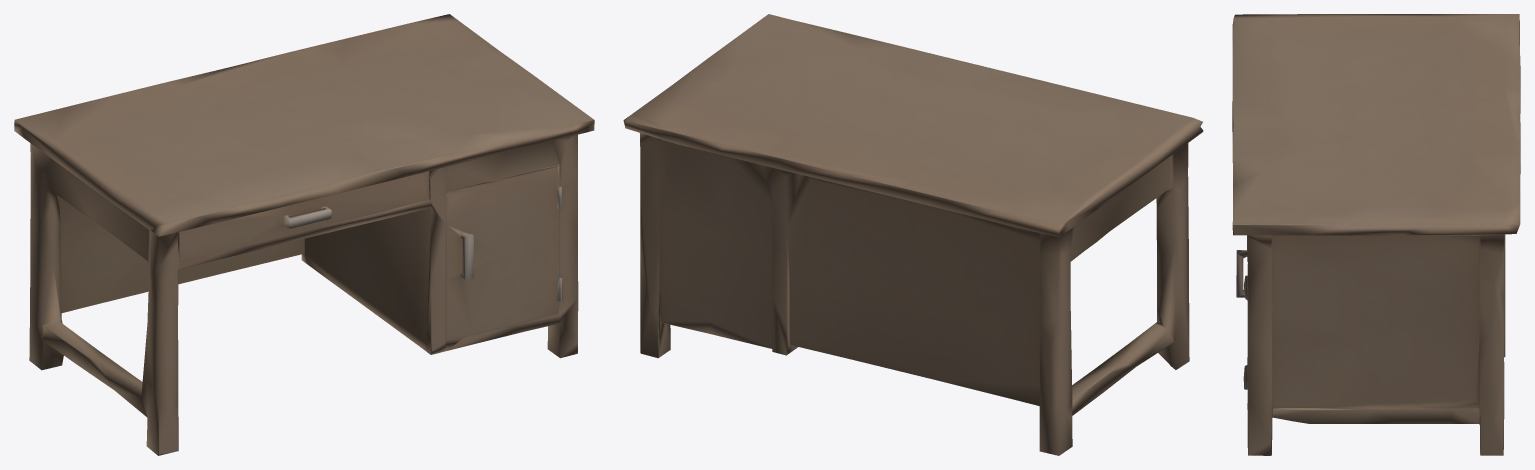
The model's file is ENV_ALL_070_v001_RAW.glb.glb.
3 views of the same model, side by side, from view 1: azimuth 30°, elevation 25°; view 2: azimuth 150°, elevation 25°; view 3: azimuth 270°, elevation 25° (orthographic).
Visible parts, largest first — view 1: tripo_node_2a248dec-86d7-42f8-9c7f-8e01b0846a77; view 2: tripo_node_2a248dec-86d7-42f8-9c7f-8e01b0846a77; view 3: tripo_node_2a248dec-86d7-42f8-9c7f-8e01b0846a77.
Boxes of the visible parts, x1,y1,x2,y2 form: tripo_node_2a248dec-86d7-42f8-9c7f-8e01b0846a77: (14,14,594,455); tripo_node_2a248dec-86d7-42f8-9c7f-8e01b0846a77: (623,14,1203,455); tripo_node_2a248dec-86d7-42f8-9c7f-8e01b0846a77: (1232,14,1520,455).
Bounding box in the file's own units: 0.9807 × 0.5165 × 0.5667.
1 material, 1 textured.
